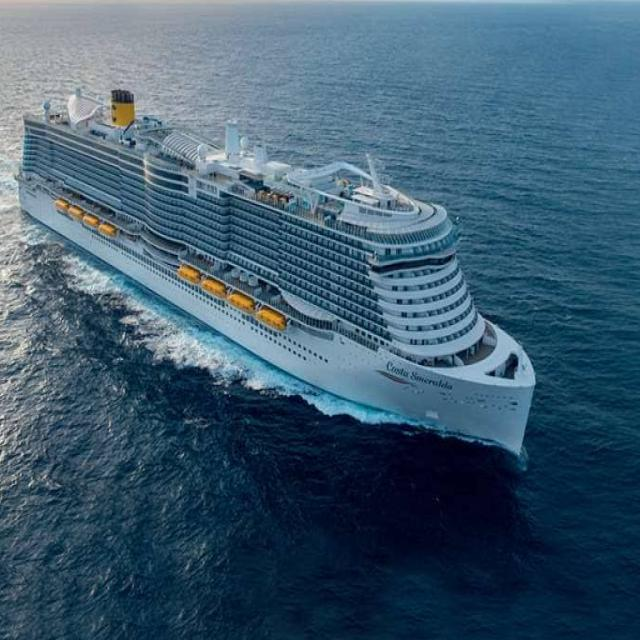passenger ship: (15, 80, 535, 466)
